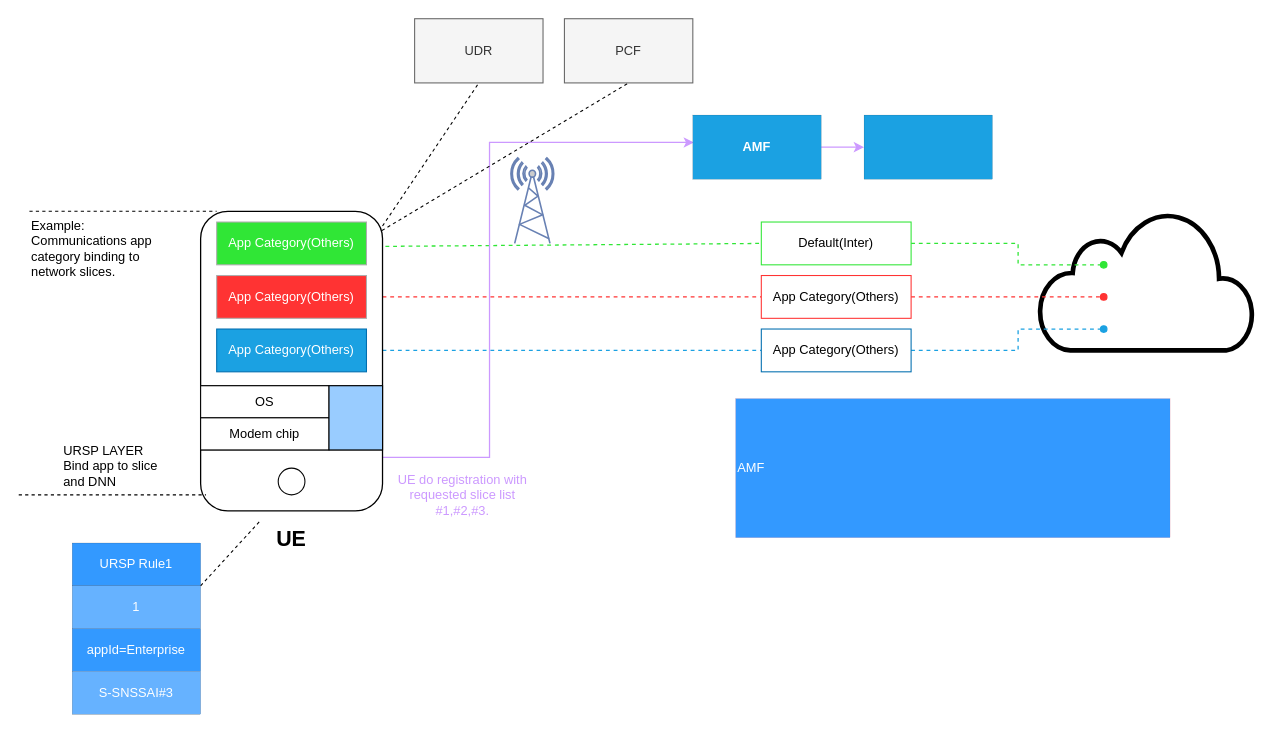
This 1273x733 diagram has some shape labels left out. The shapes that lost their labels are listed below. From the top down, each one's centre as x and y in pixels, then its label:
At (927,146): "NSACF".
At (355,417): "URSP".
